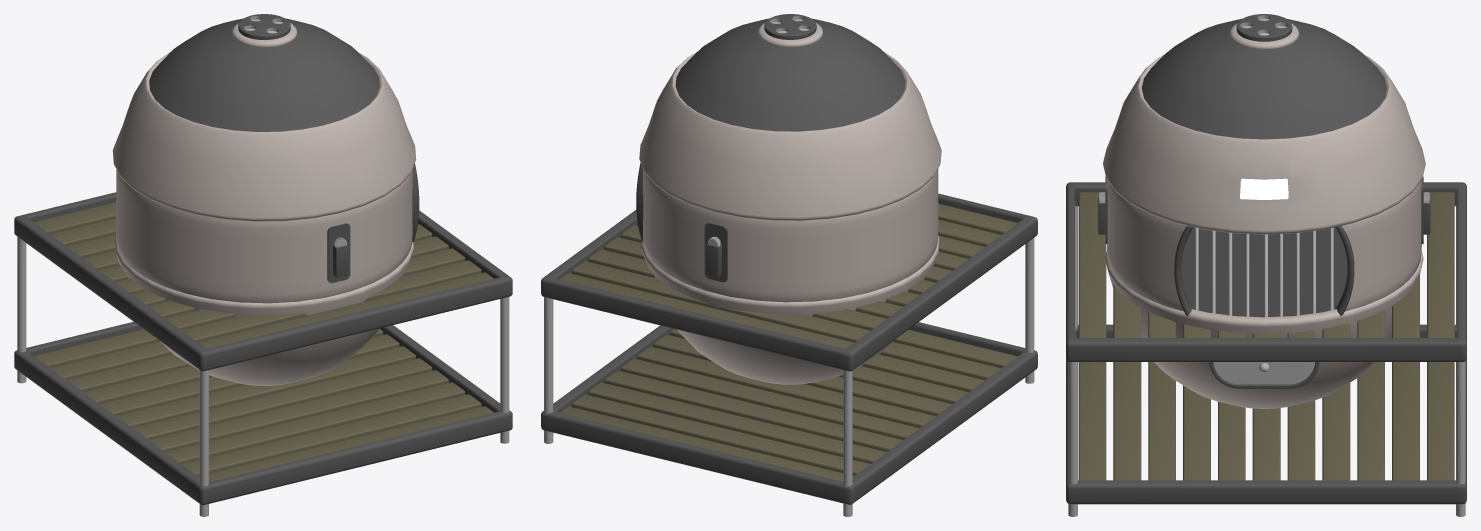
The model's file is Bbq.fbx.
3 renders of one model, left to right at view 1: azimuth 30°, elevation 25°; view 2: azimuth 150°, elevation 25°; view 3: azimuth 270°, elevation 25°, orthographic. The views are drawn at different scales.
Parts seen in each view (by area): view 1: Bbq; view 2: Bbq; view 3: Bbq.
Part boxes in pixels (box(x1,y1,x2,y2)): Bbq: box(14, 14, 512, 516); Bbq: box(541, 14, 1037, 516); Bbq: box(1066, 14, 1466, 516).
Size of the model in its own units: 110 by 130 by 115.
